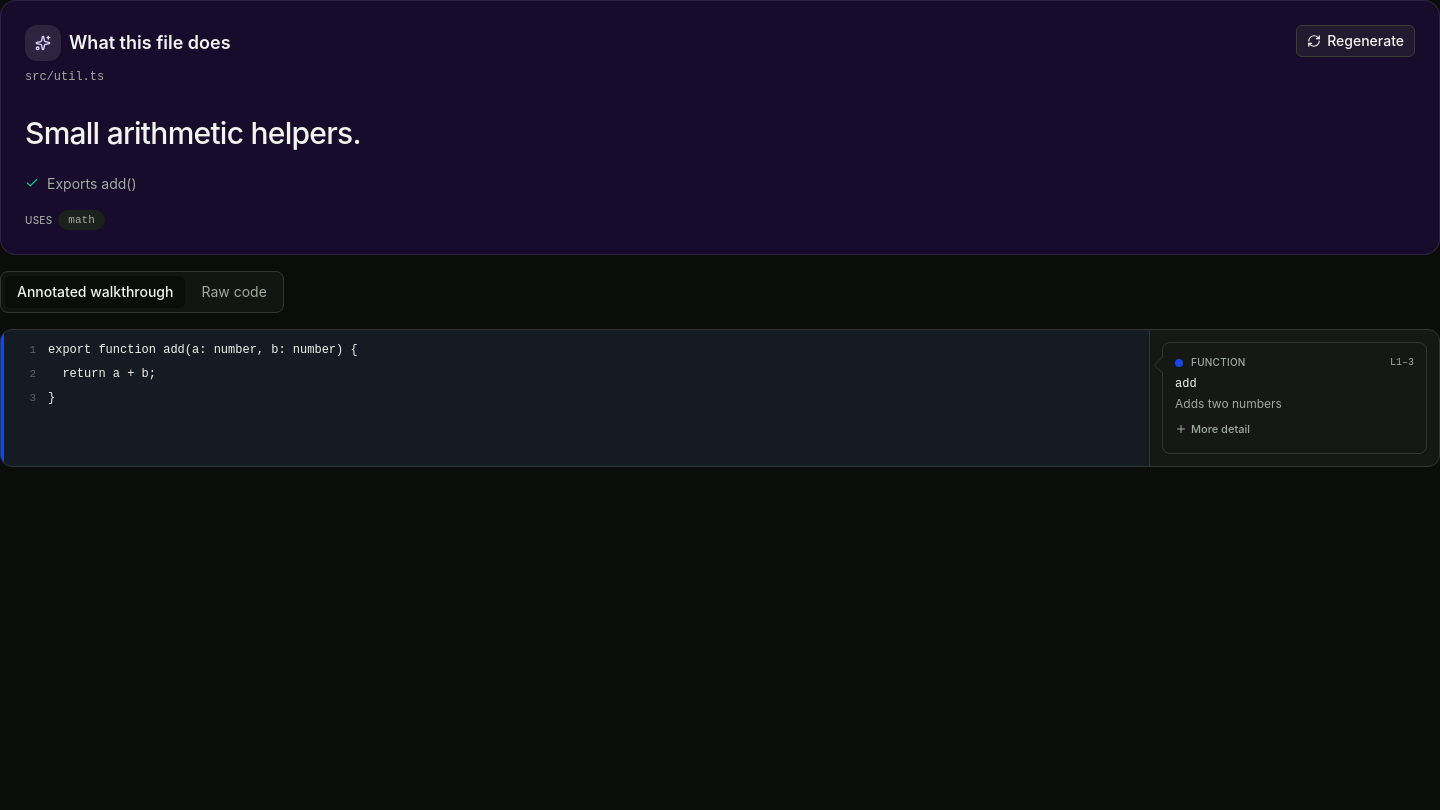
Scenario: FileAnalysisView › reveals the full explanation behind 'More detail'
Click the text "More detail" at (1212, 429), box [1175, 421, 1250, 437]
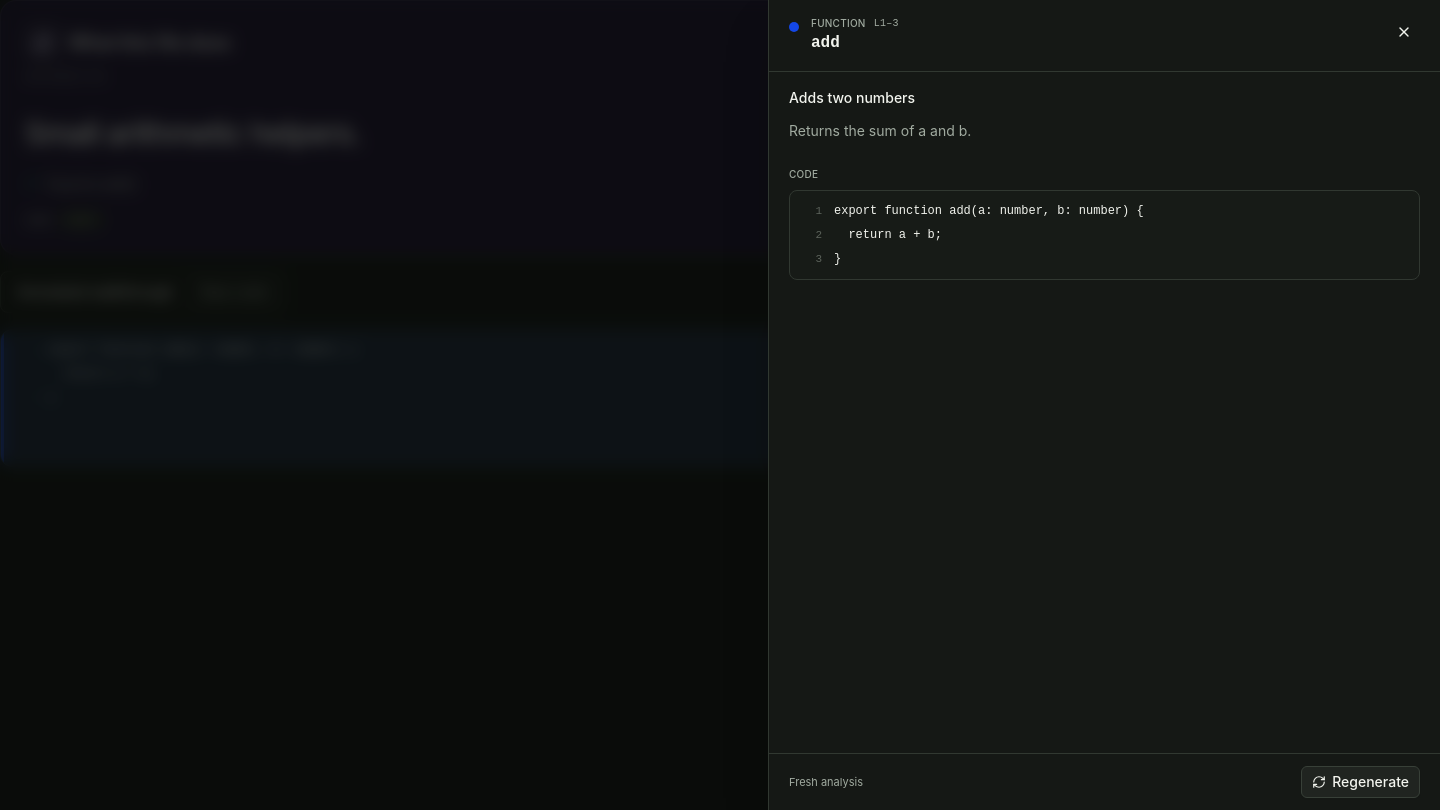
Expected: the dialog is shown, [768, 0, 1439, 809]
Expected: the text "Returns the sum of a and b." is shown, [789, 122, 971, 139]
